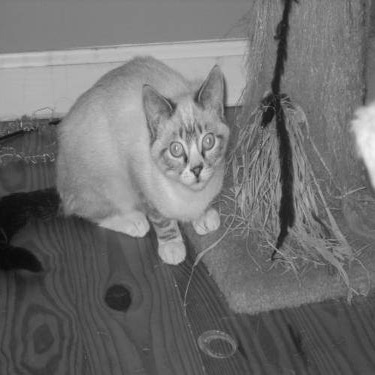cat: (54, 50, 230, 269)
